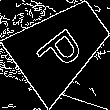P_NE: (32, 16, 91, 76)
